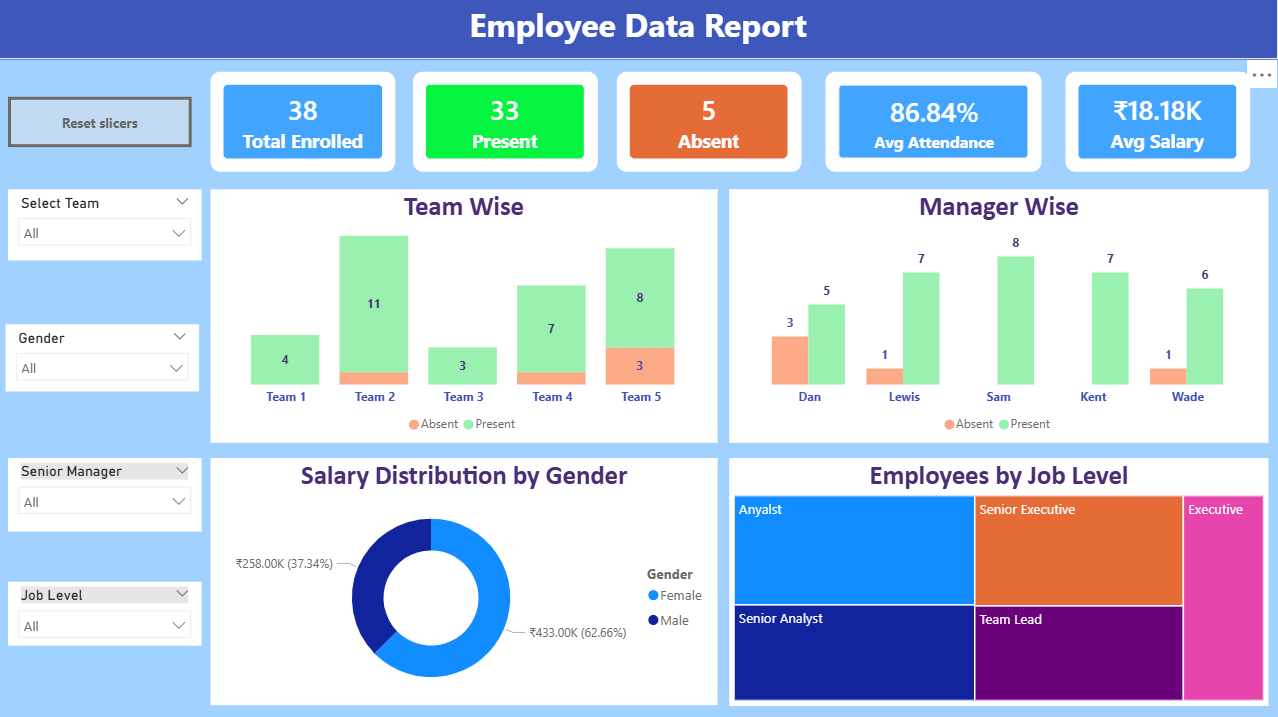

What the dashboard file says about the page in this screenshot:
{"tool":"powerbi","page":{"name":"Page 1","canvas":[1280,720],"ordinal":0},"visuals":[{"type":"textbox","box":[0,0,1280.2,61.6],"z":0},{"type":"cardVisual","fields":{"Data":["CountNonNull(Data.Employee ID:)"]},"box":[212.8,73.3,185,100],"z":1000},{"type":"cardVisual","fields":{"Data":["CountNonNull(Data.Attendance)"]},"box":[415.1,73.3,184.9,100],"z":2000},{"type":"cardVisual","fields":{"Data":["CountNonNull(Data.Attendance)"]},"box":[618.6,73.3,184.9,100],"z":3000},{"type":"cardVisual","fields":{"Data":["Avg(Data.Attendance Status)"]},"box":[827.9,73.3,216.3,100],"z":4000},{"type":"columnChart","title":"Team Wise ","fields":{"Category":["Data.Team"],"Y":["CountNonNull(Data.Full Name)"],"Series":["Data.Attendance"]},"box":[212.8,190.7,507,253.5],"z":5000},{"type":"clusteredColumnChart","title":"Manager Wise","fields":{"Category":["Data.Senior Manager"],"Y":["CountNonNull(Data.Full Name)"],"Series":["Data.Attendance"]},"box":[731.4,190.7,539.5,253.5],"z":6000},{"type":"treemap","title":"Employees by Job Level","fields":{"Group":["Data.Job Level"],"Values":["Sum(Data.Attendance Status)"]},"box":[731.4,460.5,539.5,247.7],"z":7000},{"type":"donutChart","title":"Salary Distribution by Gender","fields":{"Category":["Data.Gender"],"Y":["Sum(Data.Salary)"]},"box":[212.5,460,507.5,247.5],"z":8000},{"type":"cardVisual","fields":{"Data":["Avg(Data.Salary)"]},"box":[1067.4,73.3,184.9,100],"z":9000},{"type":"slicer","fields":{"Values":["Data.Team"]},"box":[9.6,190.9,193.3,70.8],"z":10000},{"type":"slicer","fields":{"Values":["Data.Gender"]},"box":[7.2,326.6,193.3,67.2],"z":11000},{"type":"slicer","fields":{"Values":["Data.Senior Manager"]},"box":[9.6,459.9,193.3,73.2],"z":12000},{"type":"slicer","fields":{"Values":["Data.Job Level"]},"box":[9.6,583.6,193.3,63.6],"z":13000},{"type":"actionButton","box":[9.6,98.5,183.7,50.4],"z":14000}]}

Visuals, with their boxes in screenshot pixels (x1, y1, x2, y2), scaled from the page's 1280x720 canvas onto the 1278x717 screenshot:
textbox: (x1=0, y1=0, x2=1277, y2=61)
cardVisual - CountNonNull(Data.Employee ID:): (x1=212, y1=73, x2=397, y2=173)
cardVisual - CountNonNull(Data.Attendance): (x1=414, y1=73, x2=599, y2=173)
cardVisual - CountNonNull(Data.Attendance): (x1=618, y1=73, x2=802, y2=173)
cardVisual - Avg(Data.Attendance Status): (x1=827, y1=73, x2=1043, y2=173)
"Team Wise " columnChart: (x1=212, y1=190, x2=719, y2=442)
"Manager Wise" clusteredColumnChart: (x1=730, y1=190, x2=1269, y2=442)
"Employees by Job Level" treemap: (x1=730, y1=459, x2=1269, y2=705)
"Salary Distribution by Gender" donutChart: (x1=212, y1=458, x2=719, y2=705)
cardVisual - Avg(Data.Salary): (x1=1066, y1=73, x2=1250, y2=173)
slicer - Data.Team: (x1=10, y1=190, x2=203, y2=261)
slicer - Data.Gender: (x1=7, y1=325, x2=200, y2=392)
slicer - Data.Senior Manager: (x1=10, y1=458, x2=203, y2=531)
slicer - Data.Job Level: (x1=10, y1=581, x2=203, y2=645)
actionButton: (x1=10, y1=98, x2=193, y2=148)
